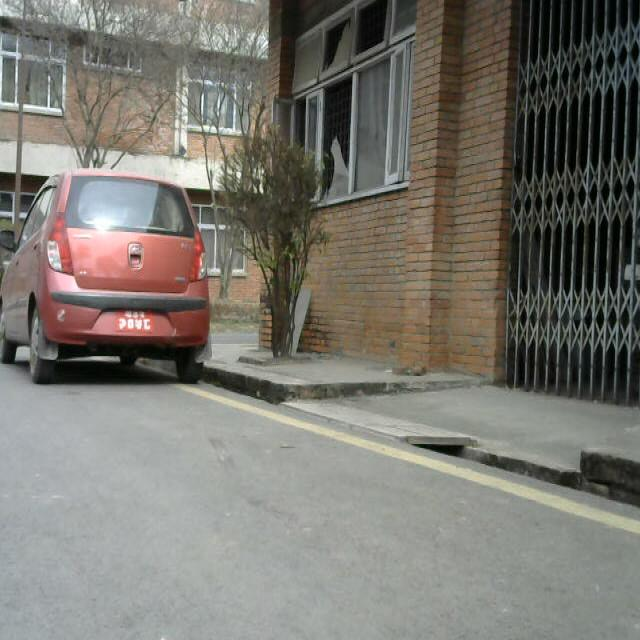Buildings: (287, 0, 640, 389)
Car: (5, 153, 232, 387)
Road: (8, 378, 640, 638)
trees: (229, 120, 329, 349)
